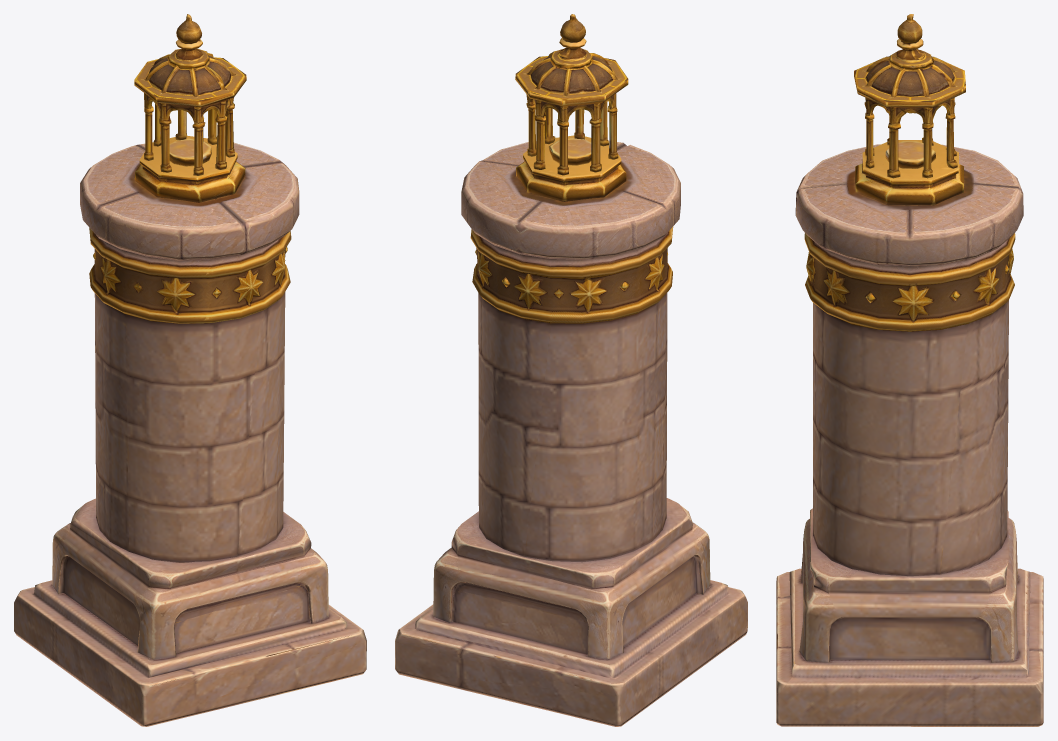
Rendered from post.glb.
The picture shows the model from 3 angles, left to right: view 1: azimuth 30°, elevation 25°; view 2: azimuth 150°, elevation 25°; view 3: azimuth 270°, elevation 25°; orthographic projection. The views are drawn at different scales.
Bounding box in the file's own units: 0.3511 × 0.9502 × 0.3511.
Materials: 1 (1 with a texture image).
